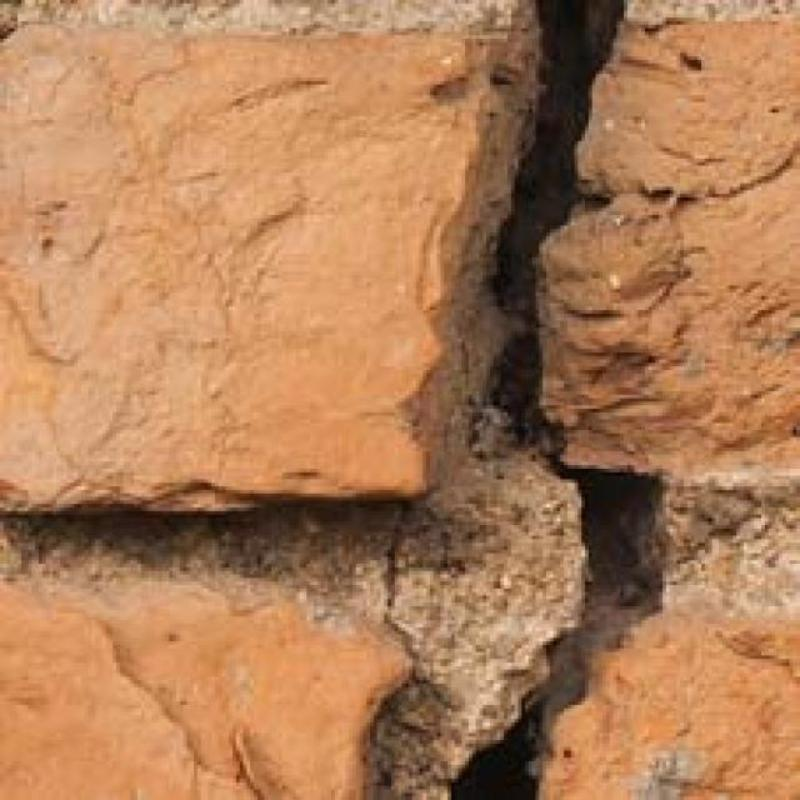pothole: (450, 0, 667, 800)
